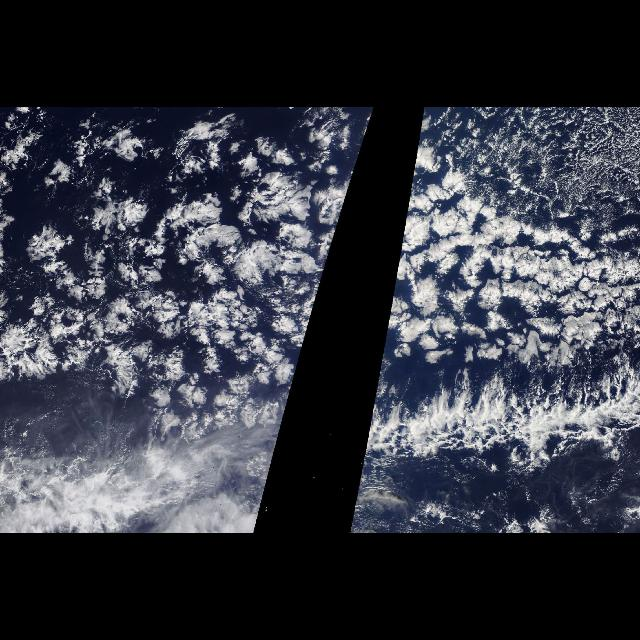Fish: (358, 362, 640, 484), (182, 398, 290, 450)
Flower: (1, 112, 372, 434), (373, 147, 639, 390)
Gravel: (468, 108, 640, 206)
